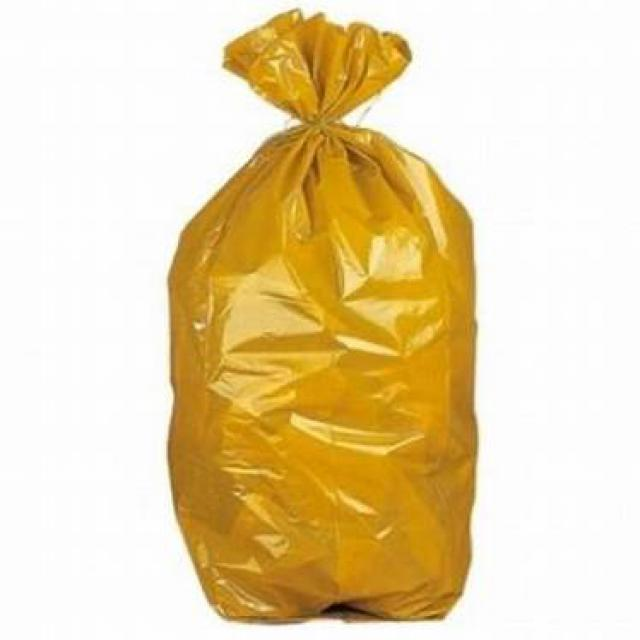waste: (169, 13, 470, 619)
